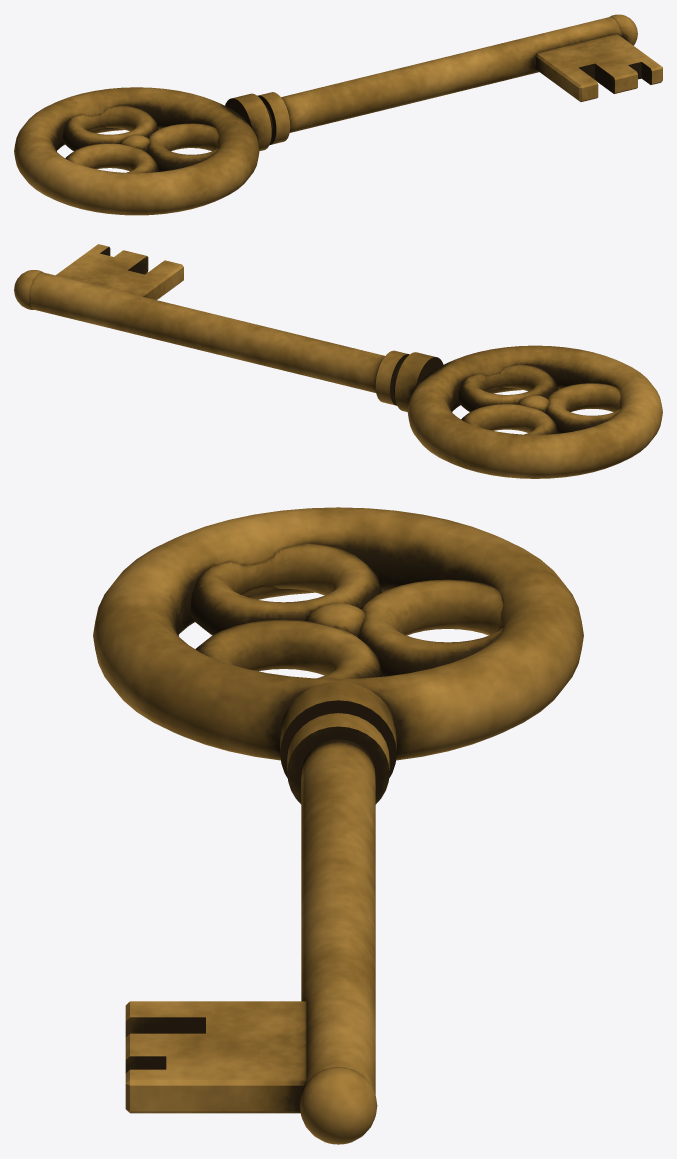
The model's file is key_hall.glb.
The picture shows the model from 3 angles, top to bottom: view 1: azimuth 30°, elevation 25°; view 2: azimuth 150°, elevation 25°; view 3: azimuth 270°, elevation 25°; orthographic projection. The views are drawn at different scales.
Parts seen in each view (by area): view 1: KeyHall; view 2: KeyHall; view 3: KeyHall.
Boxes of the visible parts, x1=… form: KeyHall: x1=14, y1=14, x2=662, y2=215; KeyHall: x1=14, y1=244, x2=662, y2=478; KeyHall: x1=93, y1=507, x2=583, y2=1144.
Size of the model in its own units: 0.0791 by 0.0066 by 0.0278.
1 material, 1 textured.
